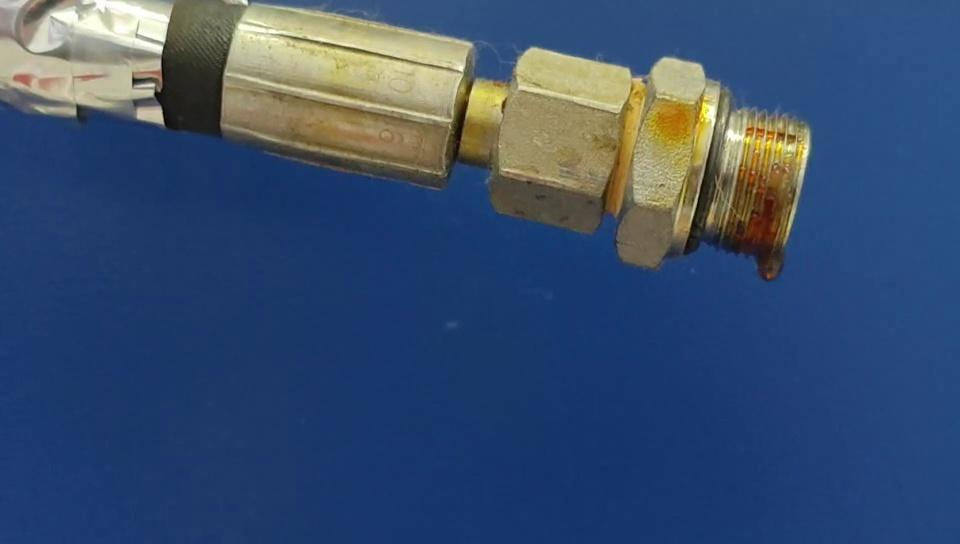water drop: (755, 256, 783, 280)
